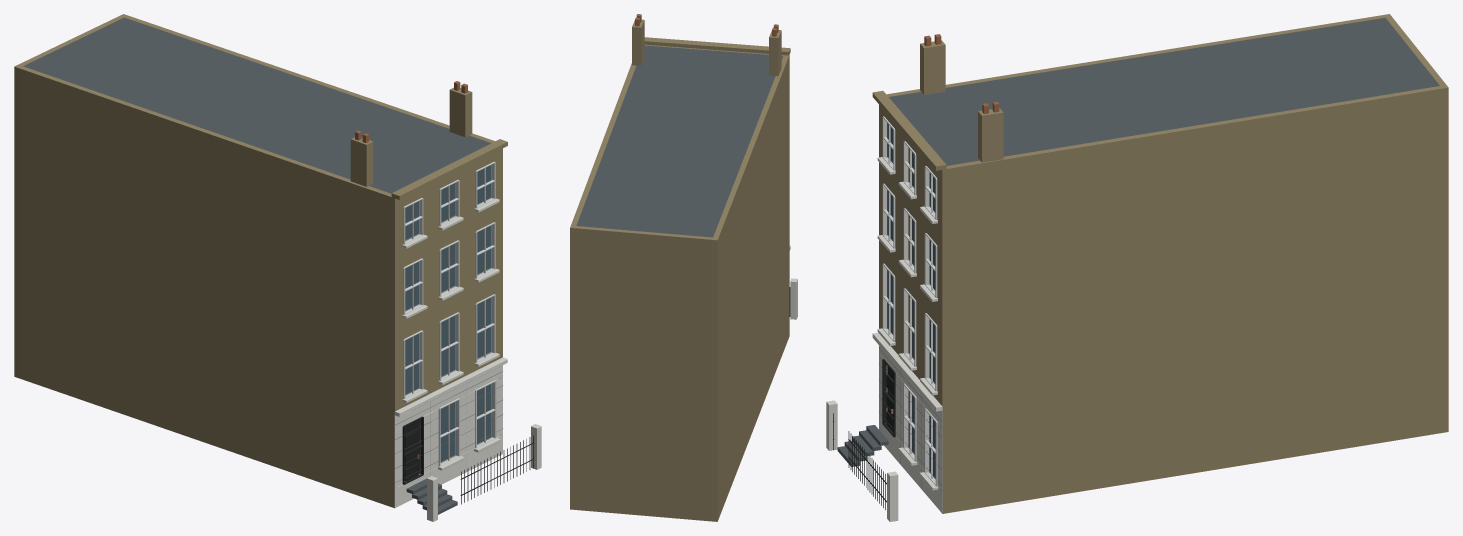
Rendered from 5lf-exterior-573c95c9082d.glb.
3 views of the same model, side by side, from view 1: azimuth 30°, elevation 25°; view 2: azimuth 150°, elevation 25°; view 3: azimuth 270°, elevation 25° (orthographic). The views are drawn at different scales.
Parts seen in each view (by area): view 1: 5LF.001; view 2: 5LF.001; view 3: 5LF.001.
Part boxes in pixels (x1,y1,x2,y2): 5LF.001: (14,14,541,521); 5LF.001: (570,14,797,521); 5LF.001: (826,14,1448,521).
Size of the model in its own units: 14.28 by 16.23 by 22.93.
